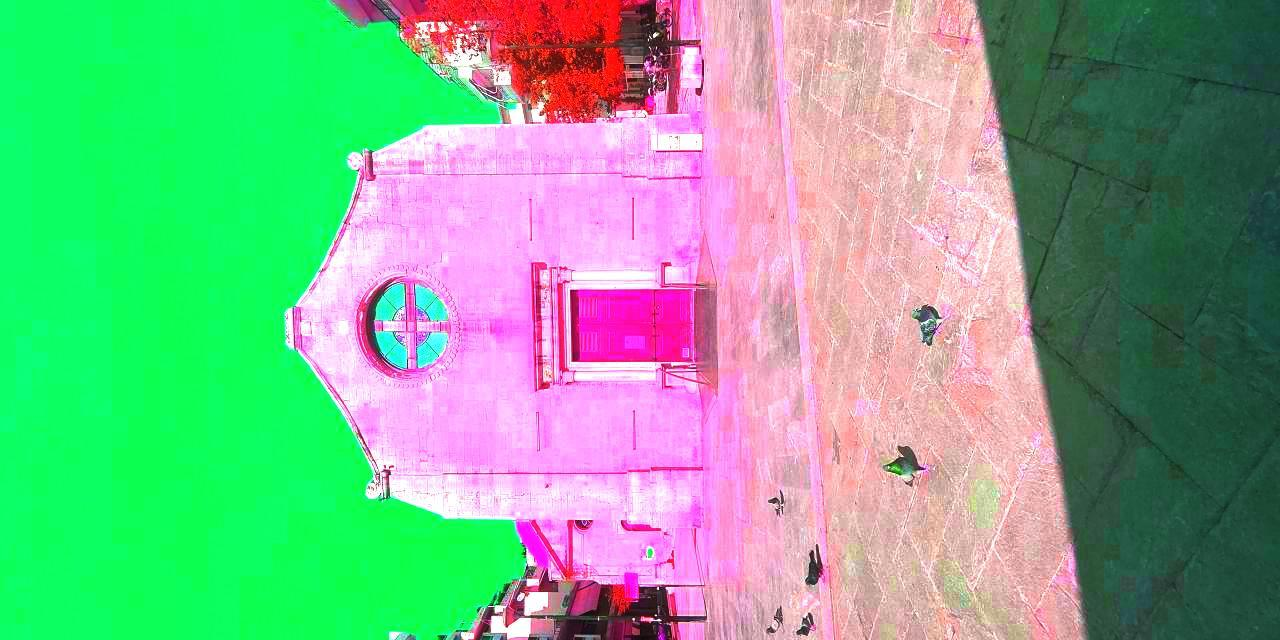Agia Aikaterini: (282, 117, 712, 530)
